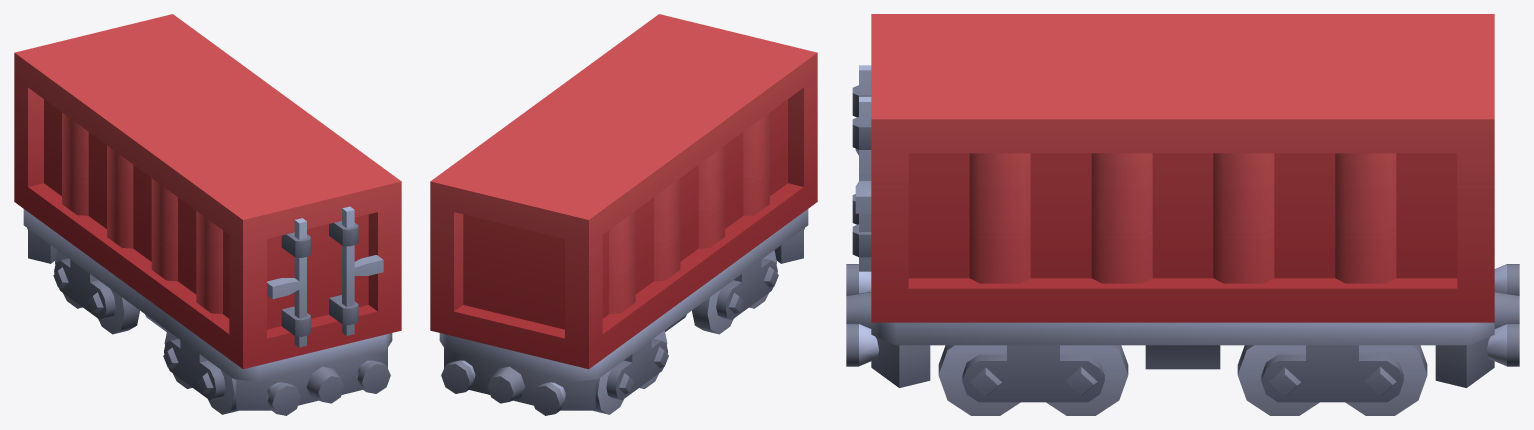
File: kenney-train-train-carriage-container-red.glb
3 views of the same model, side by side, from view 1: azimuth 30°, elevation 25°; view 2: azimuth 150°, elevation 25°; view 3: azimuth 270°, elevation 25° (orthographic). The views are drawn at different scales.
Parts seen in each view (by area): view 1: train-carriage-container-red; view 2: train-carriage-container-red; view 3: train-carriage-container-red.
Part boxes in pixels (x1,y1,x2,y2): train-carriage-container-red: (14, 14, 401, 415); train-carriage-container-red: (430, 14, 817, 415); train-carriage-container-red: (846, 14, 1519, 415).
Size of the model in its own units: 1 by 1.36 by 2.7.
1 material, 1 textured.
